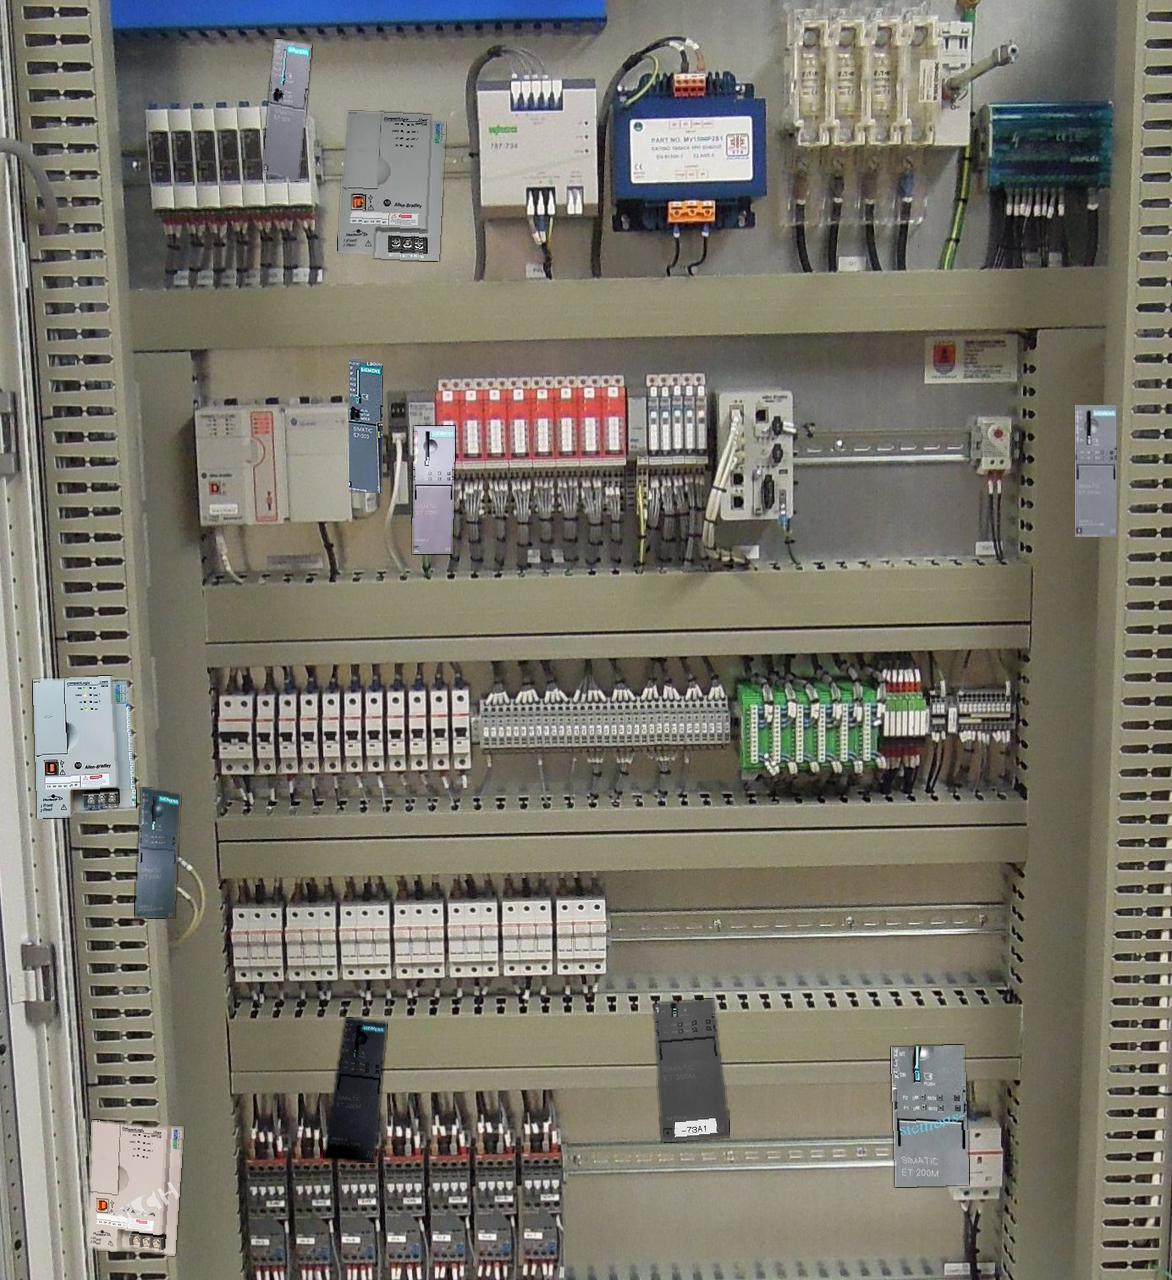AllenBradley: (337, 111, 444, 261), (33, 676, 135, 818), (87, 1119, 182, 1255)
Siemens: (262, 39, 311, 180), (349, 359, 382, 492)
